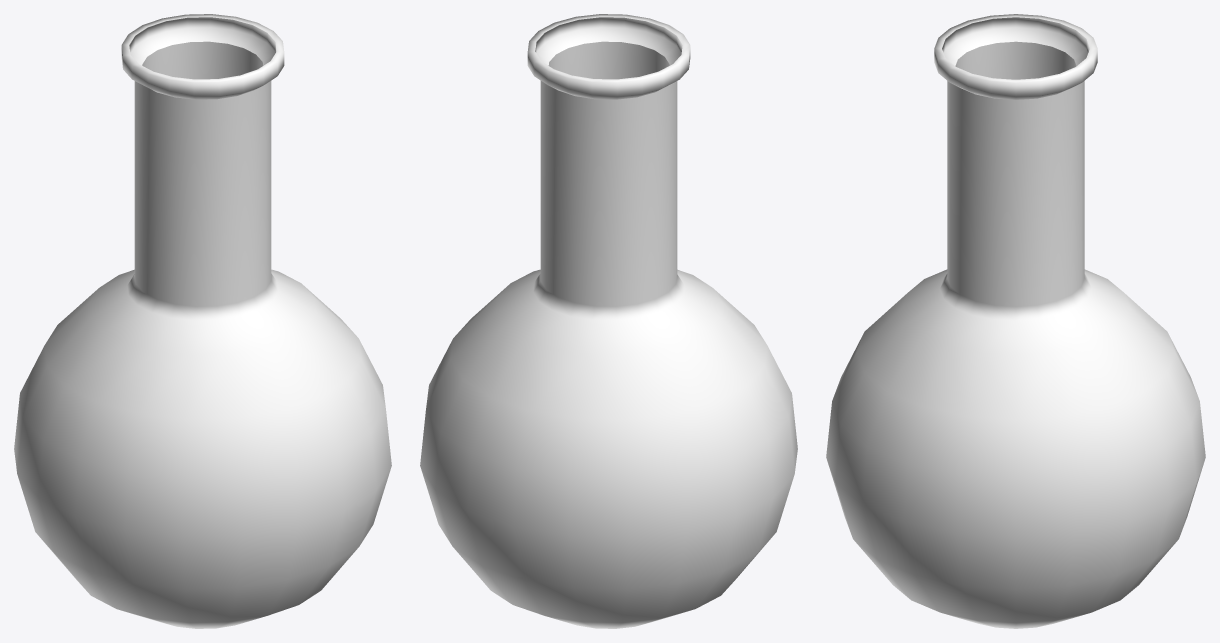
File: Round_bottomed_flask_01.fbx
3 renders of one model, left to right at view 1: azimuth 30°, elevation 25°; view 2: azimuth 150°, elevation 25°; view 3: azimuth 270°, elevation 25°, orthographic.
Visible parts, largest first — view 1: Round_bottomed_flask_01; view 2: Round_bottomed_flask_01; view 3: Round_bottomed_flask_01.
Boxes of the visible parts, left/top/right/bottom form: Round_bottomed_flask_01: left=14, top=14, right=391, bottom=628; Round_bottomed_flask_01: left=420, top=14, right=797, bottom=628; Round_bottomed_flask_01: left=826, top=14, right=1205, bottom=628.
Bounding box in the file's own units: 17.14 × 27.56 × 17.14.
Materials: 1 (1 with a texture image).
